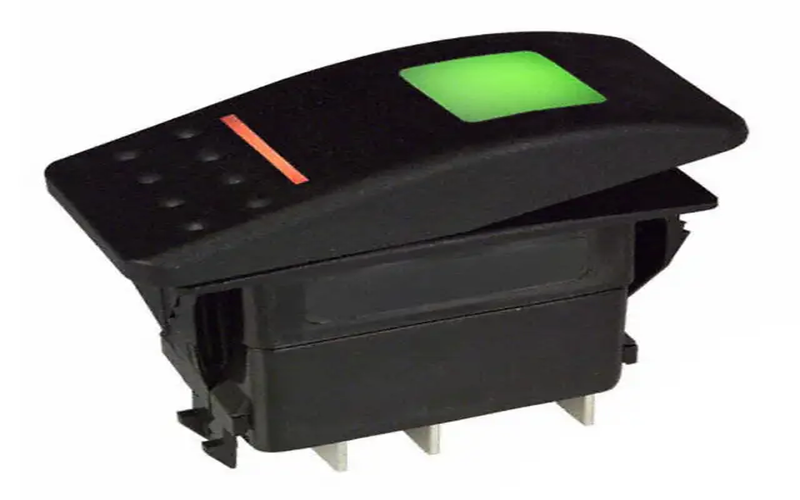Switches: (62, 26, 735, 452)
